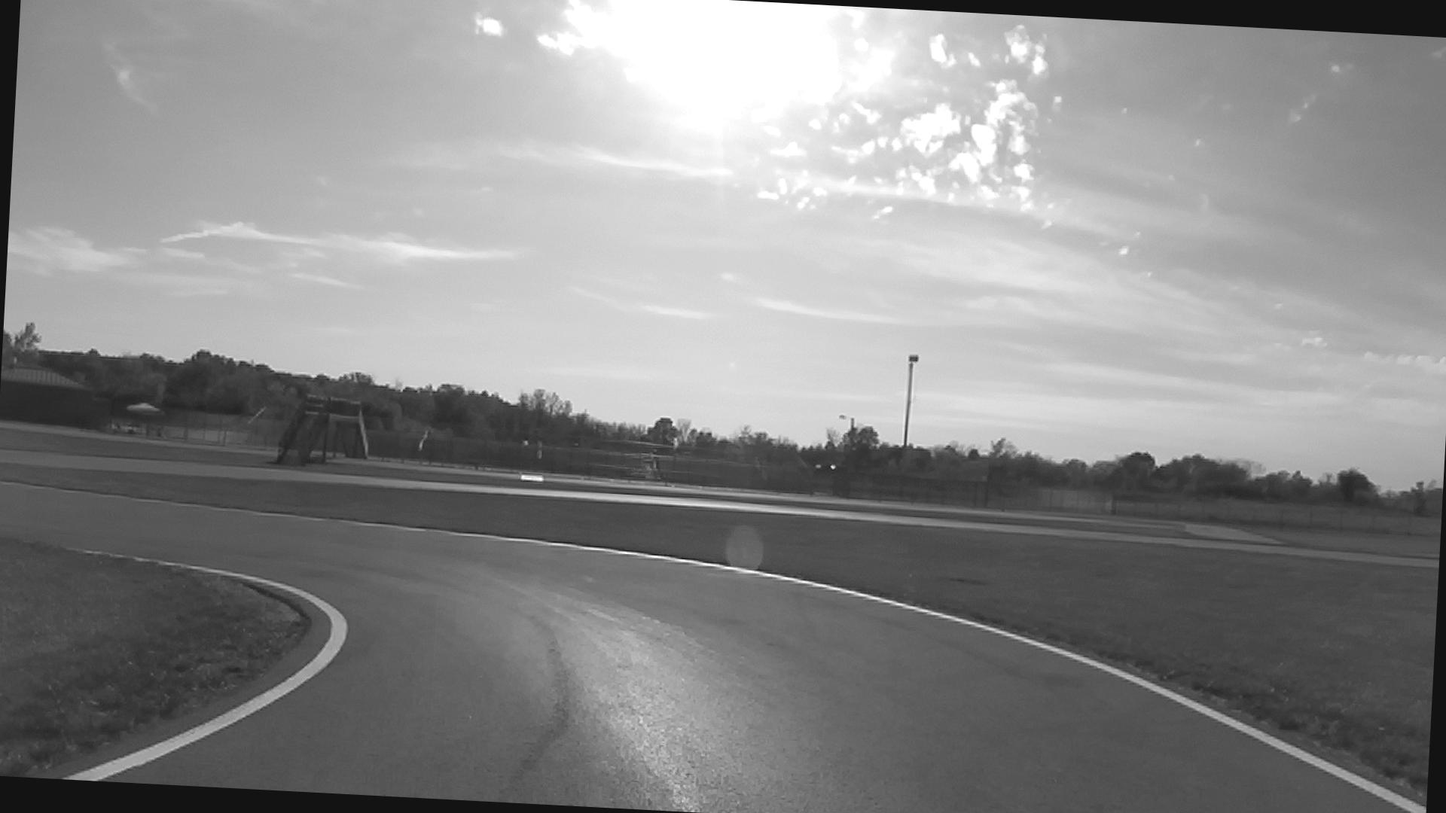white-line: (339, 519, 1426, 813), (62, 556, 346, 781)
